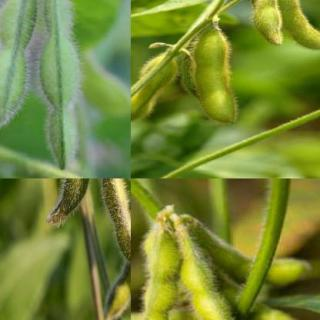soya: (187, 215, 311, 289), (41, 0, 81, 169), (176, 236, 251, 320), (0, 0, 48, 127), (131, 232, 181, 319), (195, 32, 239, 123), (220, 282, 307, 319), (95, 178, 130, 267), (130, 56, 178, 120), (104, 216, 130, 319), (45, 179, 96, 226), (277, 0, 319, 51), (253, 0, 286, 45)
